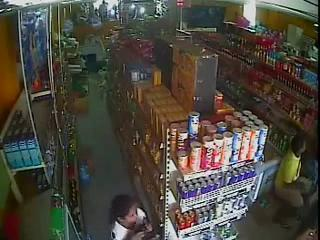Normal: (108, 194, 156, 240)
